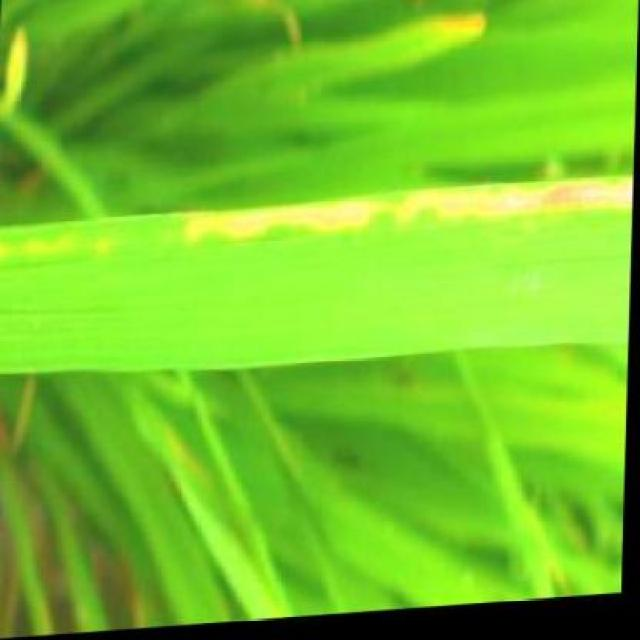Brown_Spot: (0, 172, 632, 393)
